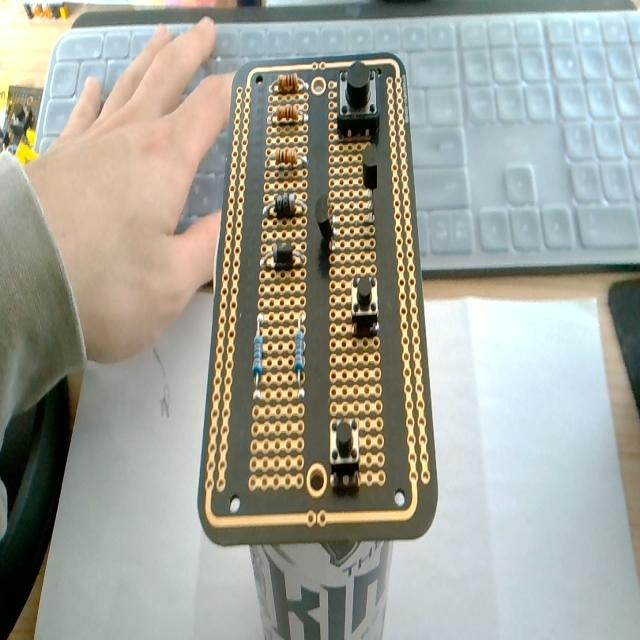diode: (264, 193, 306, 219), (260, 247, 306, 270)
resistor: (251, 314, 264, 393), (294, 313, 306, 396), (260, 147, 312, 166), (270, 74, 307, 95), (272, 107, 306, 126)
switch: (337, 64, 379, 139), (329, 414, 362, 489), (350, 274, 378, 336)
transistor: (354, 146, 385, 217), (315, 192, 335, 276)
